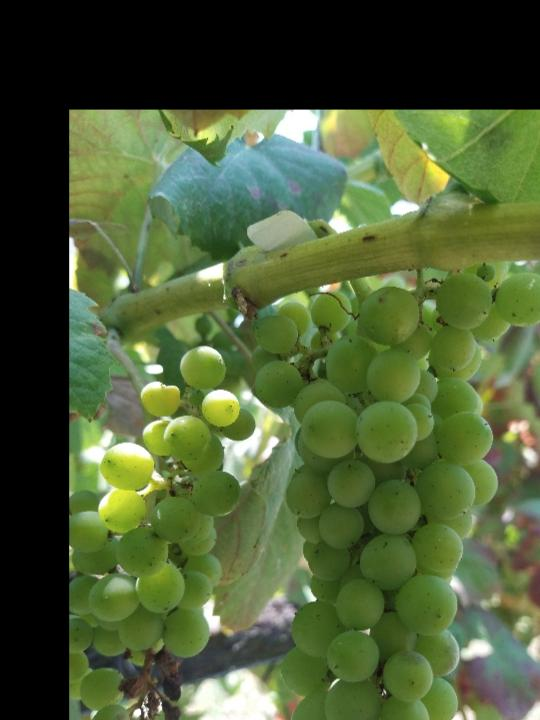grape: (248, 262, 540, 720), (72, 341, 260, 720)
